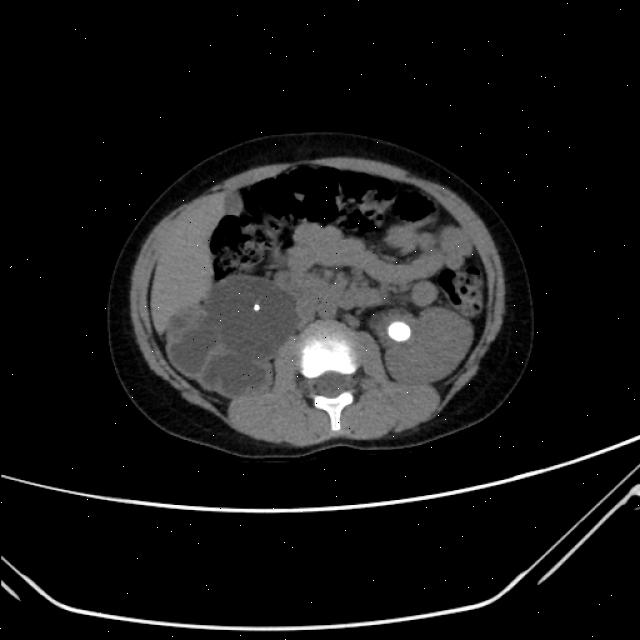kidneystone: (388, 321, 411, 342), (254, 304, 260, 311)
